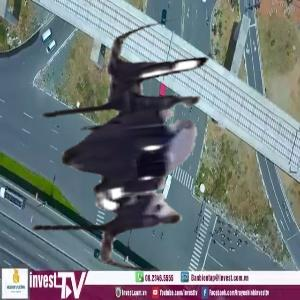drone: (3, 17, 269, 283)
